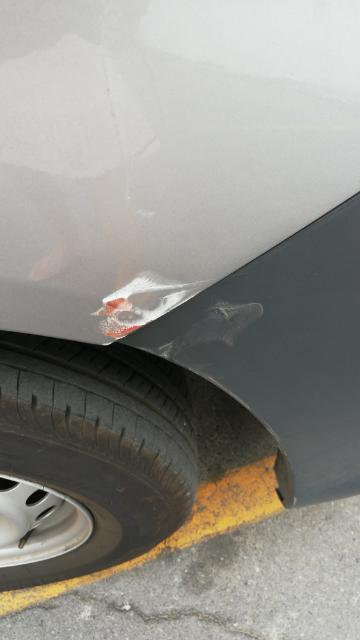scratch: (88, 267, 217, 347), (149, 298, 269, 378)
